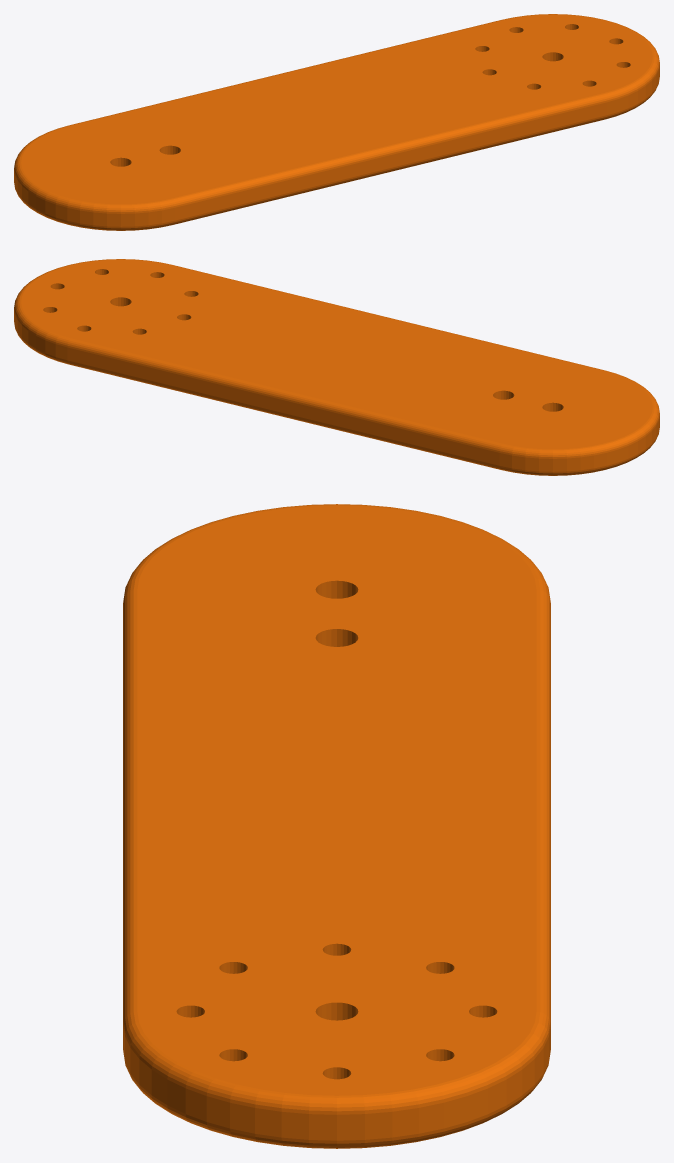
File: demoshaft.dae
3 views of the same model, one above another, from view 1: azimuth 30°, elevation 25°; view 2: azimuth 150°, elevation 25°; view 3: azimuth 270°, elevation 25° (orthographic). The views are drawn at different scales.
Parts seen in each view (by area): view 1: Body_1; view 2: Body_1; view 3: Body_1.
Part boxes in pixels (<box>): Body_1: <box>14,14,659,230</box>; Body_1: <box>14,259,659,475</box>; Body_1: <box>123,504,550,1148</box>.
Size of the model in its own units: 0.1 by 0.03 by 0.004.
